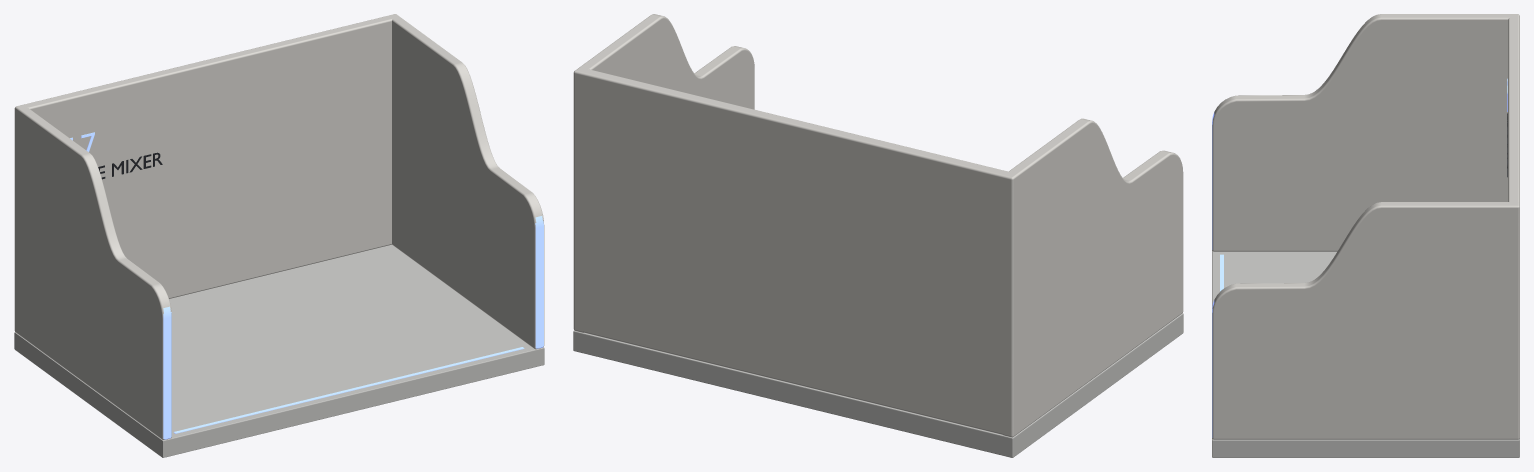
The model's file is Room_17_juice-mixer.glb.
The picture shows the model from 3 angles, left to right: view 1: azimuth 30°, elevation 25°; view 2: azimuth 150°, elevation 25°; view 3: azimuth 270°, elevation 25°; orthographic projection. The views are drawn at different scales.
Visible parts, largest first — view 1: Walls, Floor, Accent, Label; view 2: Walls, Floor; view 3: Walls, Floor.
Boxes of the visible parts, bbox=[...] form: Walls: bbox=[14, 14, 544, 439]; Floor: bbox=[14, 244, 544, 457]; Accent: bbox=[173, 347, 524, 433]; Label: bbox=[70, 132, 162, 179]; Walls: bbox=[573, 14, 1183, 437]; Floor: bbox=[573, 313, 1183, 457]; Walls: bbox=[1212, 14, 1519, 439]; Floor: bbox=[1212, 250, 1519, 457].
Size of the model in its own units: 4.6 by 2.8 by 3.1.
